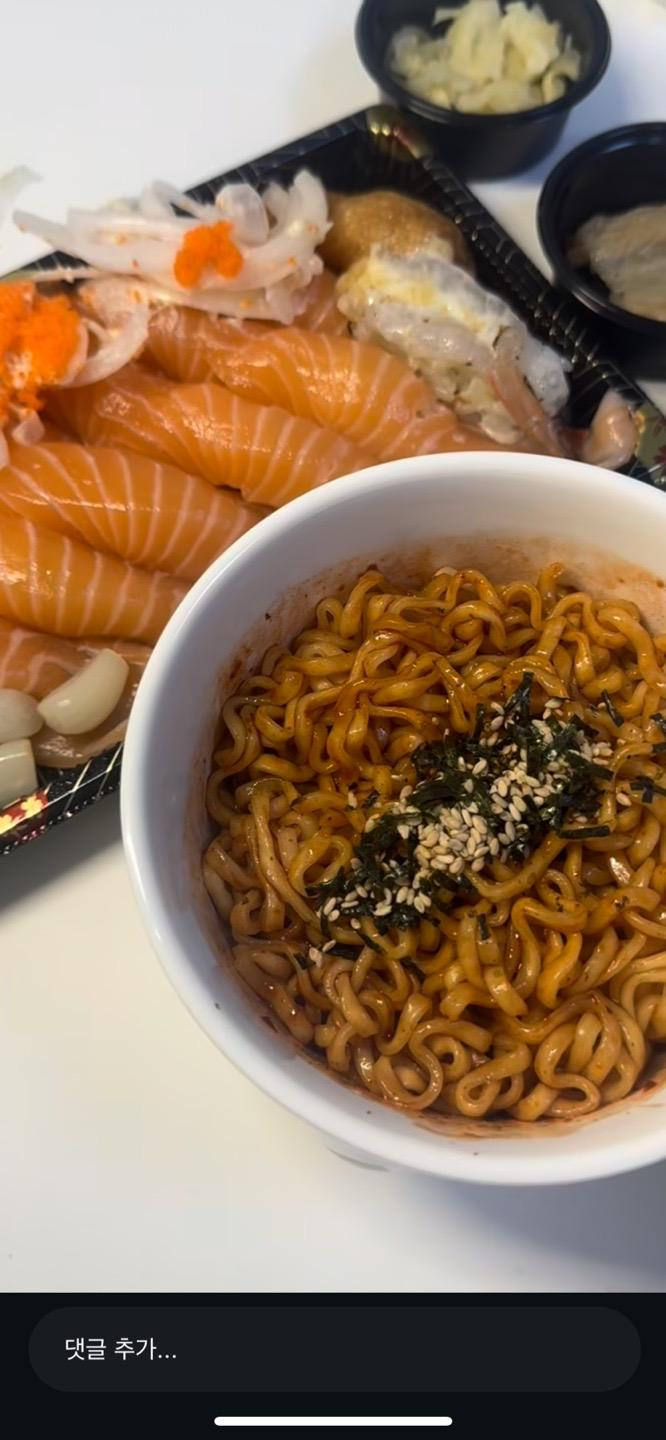Lunch Box: (0, 108, 665, 853), (121, 452, 665, 1184)
cup: (356, 0, 610, 178), (537, 122, 665, 378)
